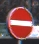No entry: (6, 6, 34, 39)
